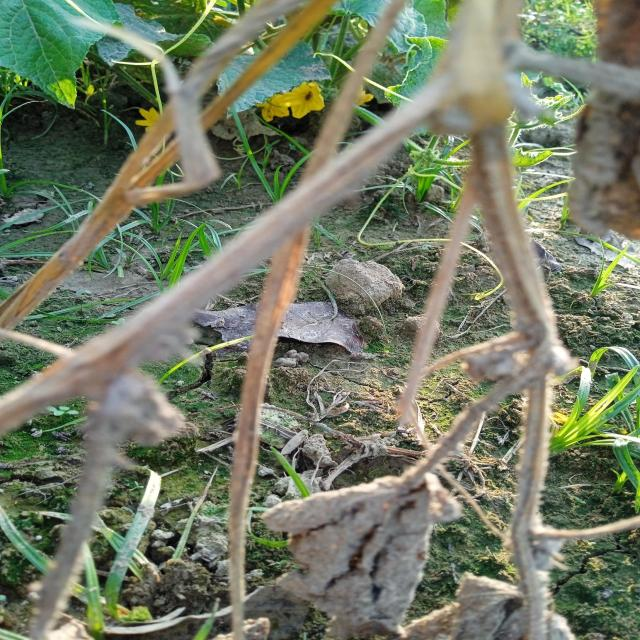cucumber_bacterial: (254, 468, 435, 640), (393, 502, 591, 640)
